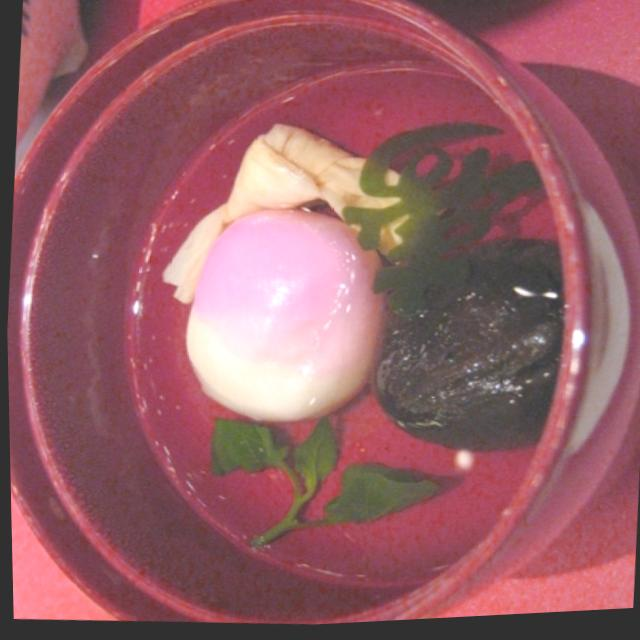汤锅炖物: (0, 0, 633, 640)
